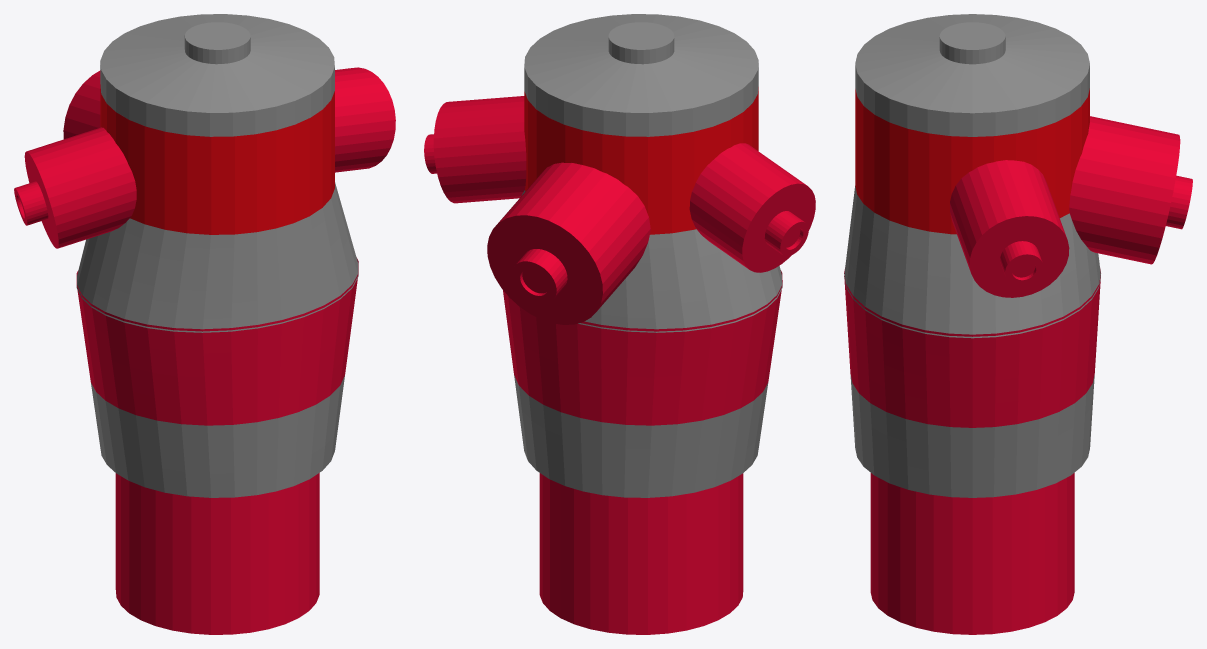
File: borne.fbx
3 views of the same model, side by side, from view 1: azimuth 30°, elevation 25°; view 2: azimuth 150°, elevation 25°; view 3: azimuth 270°, elevation 25° (orthographic).
Visible parts, largest first — view 1: Cylinder.005, SurfCylinder, SurfCylinder.001, SurfCylinder.002; view 2: Cylinder.005, SurfCylinder, SurfCylinder.002, SurfCylinder.001; view 3: Cylinder.005, SurfCylinder, SurfCylinder.001, SurfCylinder.002.
Part boxes in pixels (bbox=[...]): Cylinder.005: bbox=[14, 14, 395, 634]; SurfCylinder: bbox=[76, 257, 358, 497]; SurfCylinder.001: bbox=[76, 182, 358, 332]; SurfCylinder.002: bbox=[100, 84, 334, 234]; Cylinder.005: bbox=[424, 14, 815, 634]; SurfCylinder: bbox=[503, 270, 782, 497]; SurfCylinder.002: bbox=[524, 87, 758, 234]; SurfCylinder.001: bbox=[522, 190, 782, 332]; Cylinder.005: bbox=[855, 14, 1192, 634]; SurfCylinder: bbox=[844, 269, 1100, 497]; SurfCylinder.001: bbox=[844, 186, 1100, 338]; SurfCylinder.002: bbox=[855, 88, 1089, 234].
Size of the model in its own units: 83.71 by 120 by 68.31.
